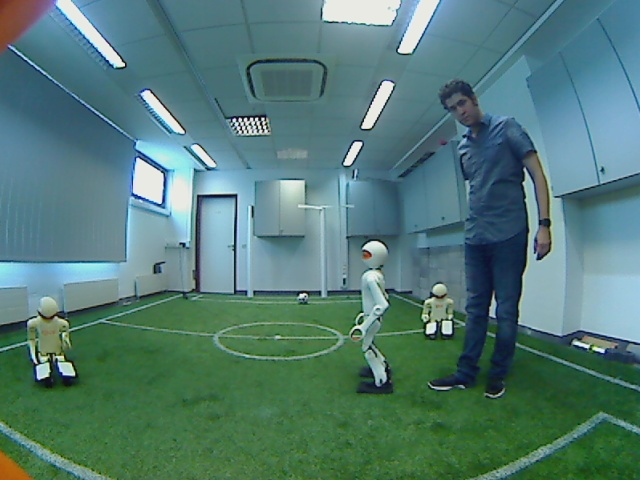ball: (293, 289, 315, 309)
robot: (345, 239, 402, 397), (19, 291, 88, 387), (414, 281, 461, 344)
